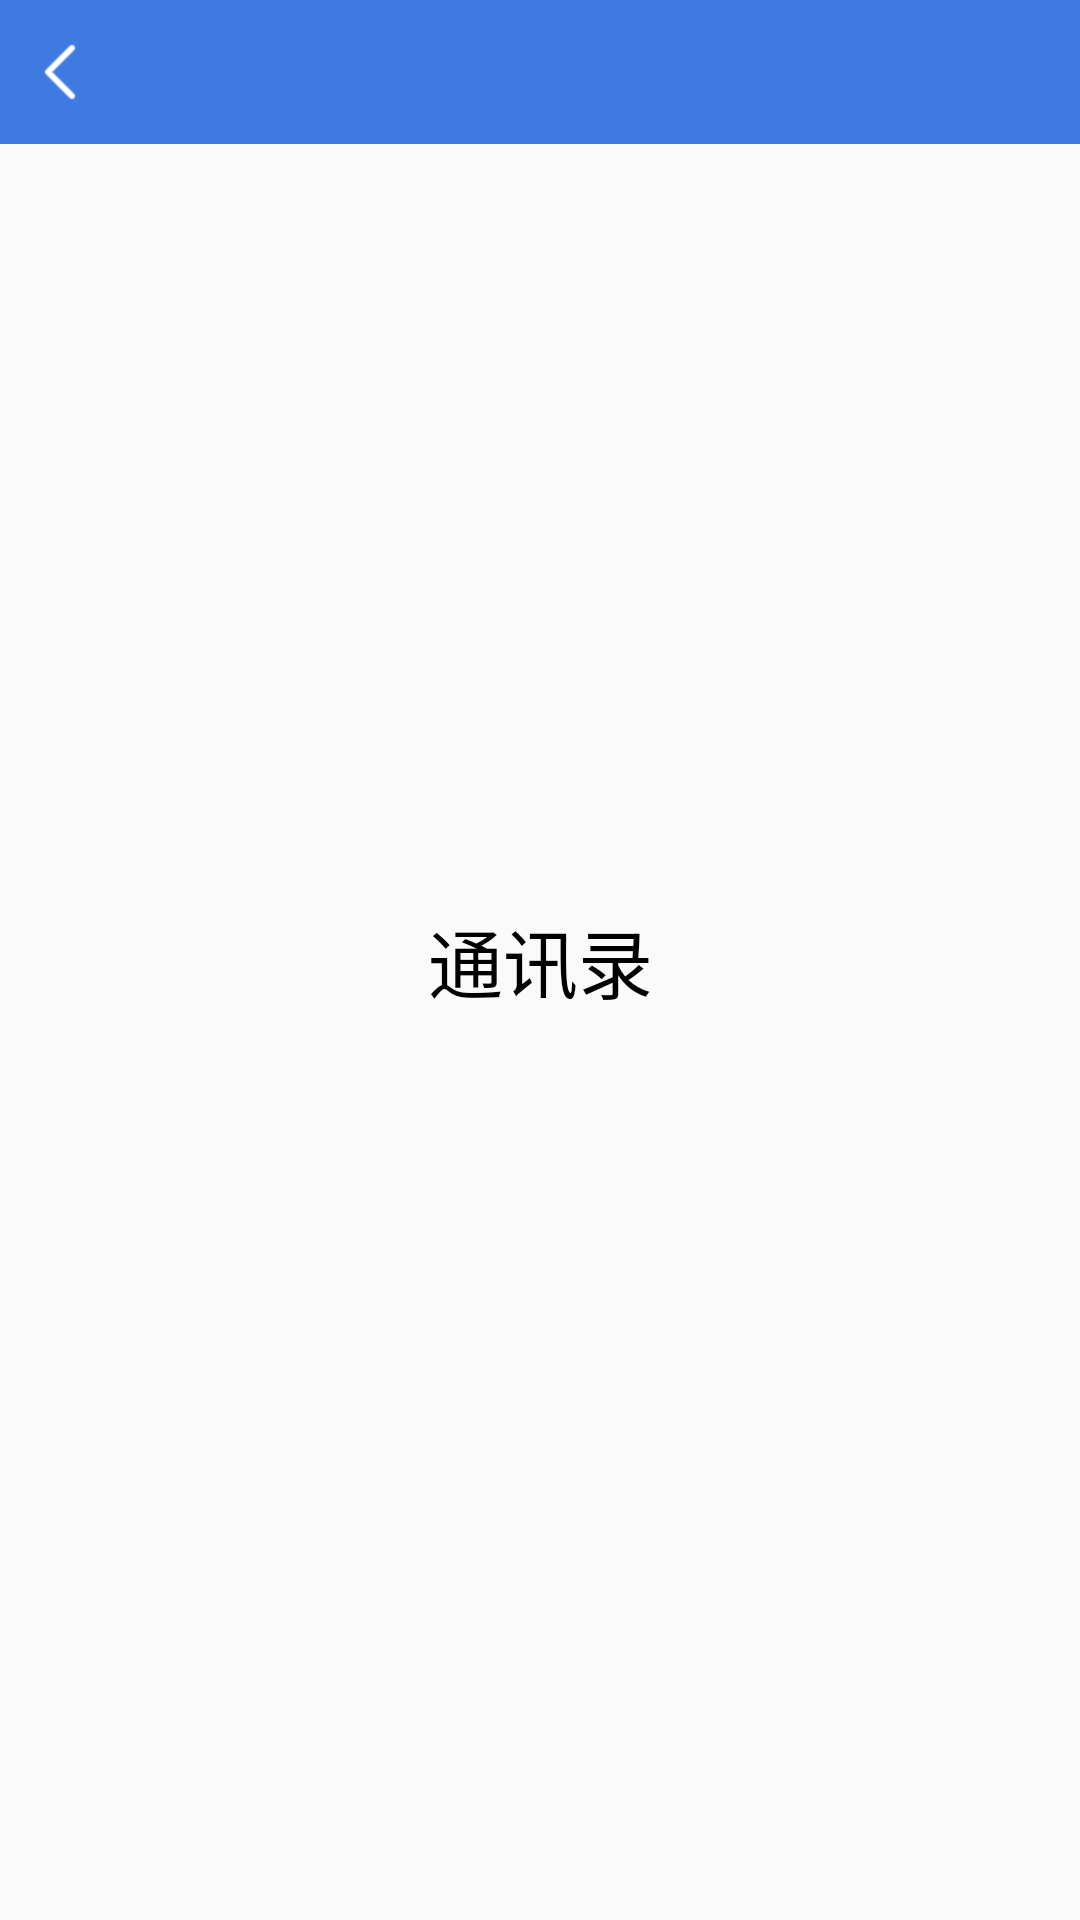

Icon click points for this 1080px x 1920px phone screenshot, format [x,y]:
back: [60,72]
